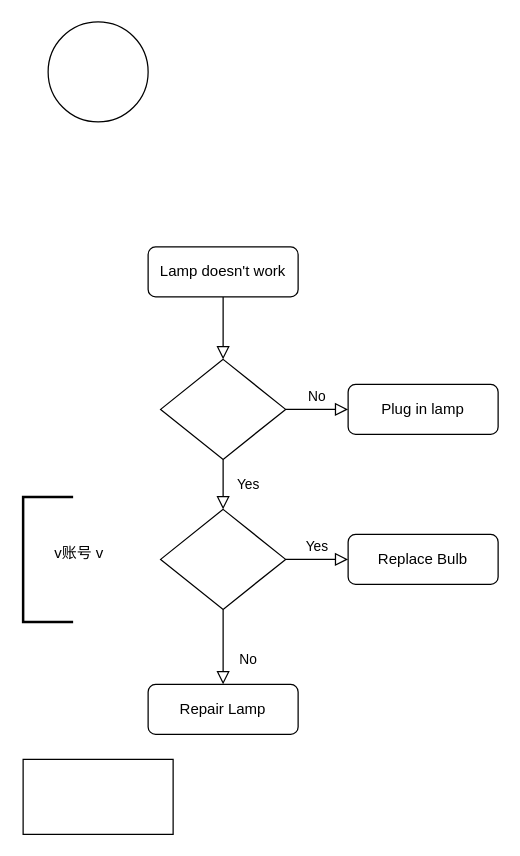
Some shapes in this 520 by 856 pixel diagram are drawn without their labels. Here are the shapes that lost their labels. From the top down, the centre of each, then its label:
point (222, 408): Lamp plugged in?
point (222, 558): Bulb burned out?
